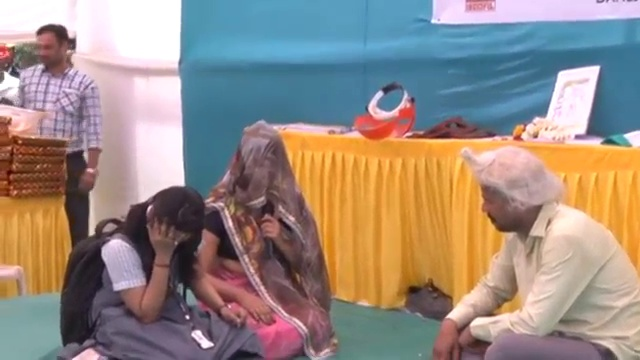helmet: (0, 102, 54, 136)
helmet_off: (466, 152, 558, 240), (135, 189, 201, 254), (232, 123, 288, 199), (23, 24, 72, 71)
person: (422, 144, 635, 360), (184, 127, 332, 354), (58, 184, 215, 358), (15, 20, 102, 243)
